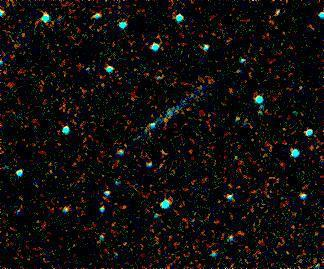star: (150, 107, 180, 137)
